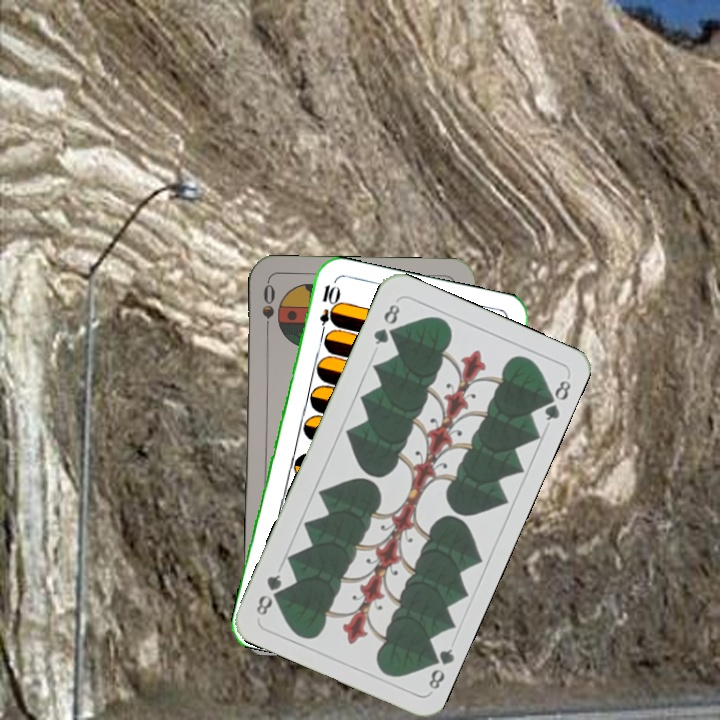E10: (315, 281, 339, 340)
G8: (422, 644, 457, 692), (369, 300, 403, 348)
SO: (258, 280, 277, 339)
